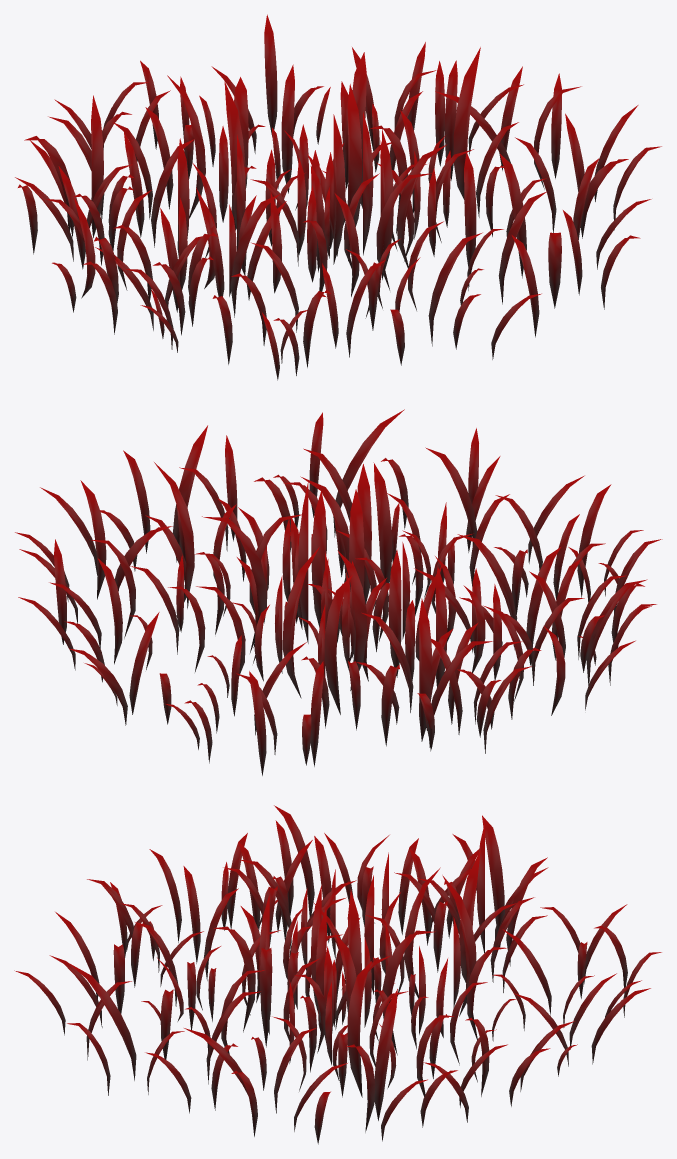
File: Grass.fbx
3 views of the same model, one above another, from view 1: azimuth 30°, elevation 25°; view 2: azimuth 150°, elevation 25°; view 3: azimuth 270°, elevation 25° (orthographic). The views are drawn at different scales.
Visible parts, largest first — view 1: Grass; view 2: Grass; view 3: Grass.
Part boxes in pixels (x1,y1,x2,y2): Grass: [15, 14, 661, 380]; Grass: [15, 409, 662, 775]; Grass: [14, 805, 661, 1144].
Bounding box in the file's own units: 7.58 × 1.99 × 7.7.
